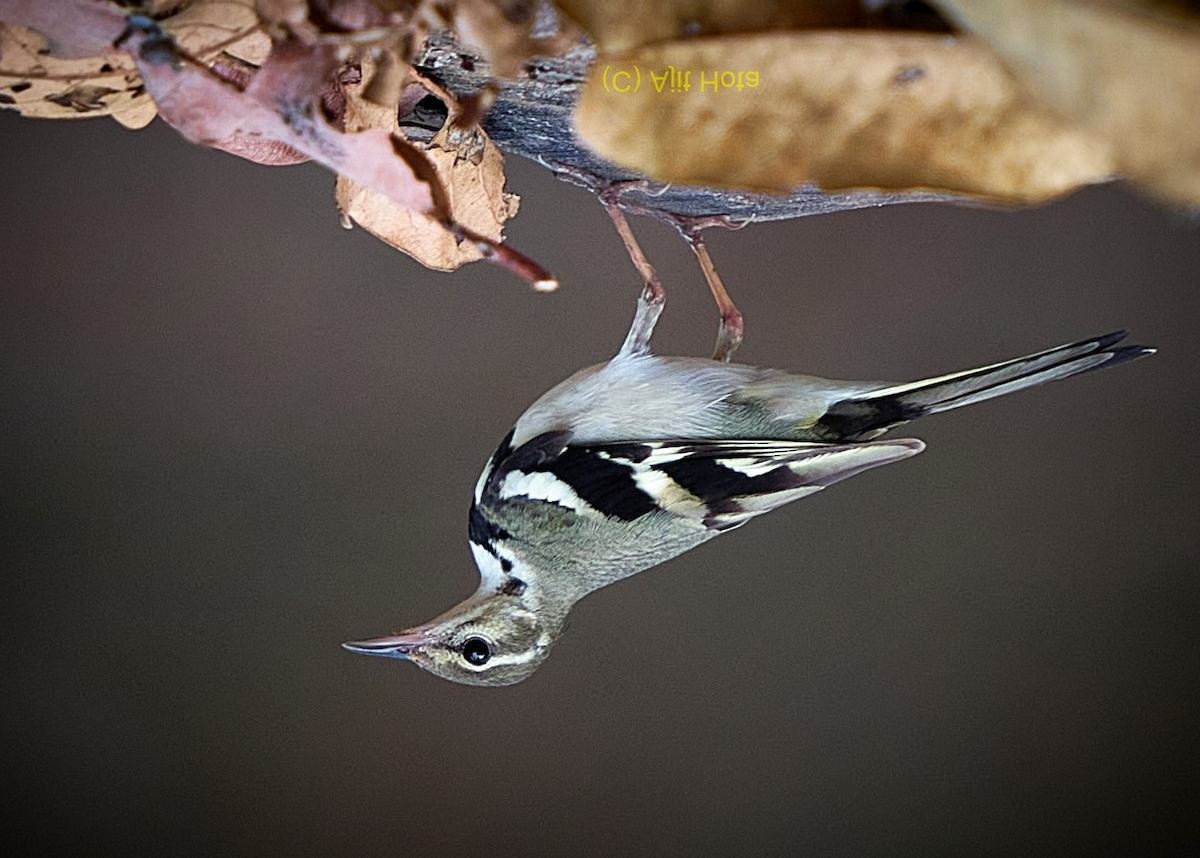wagtail: (330, 166, 1136, 696)
